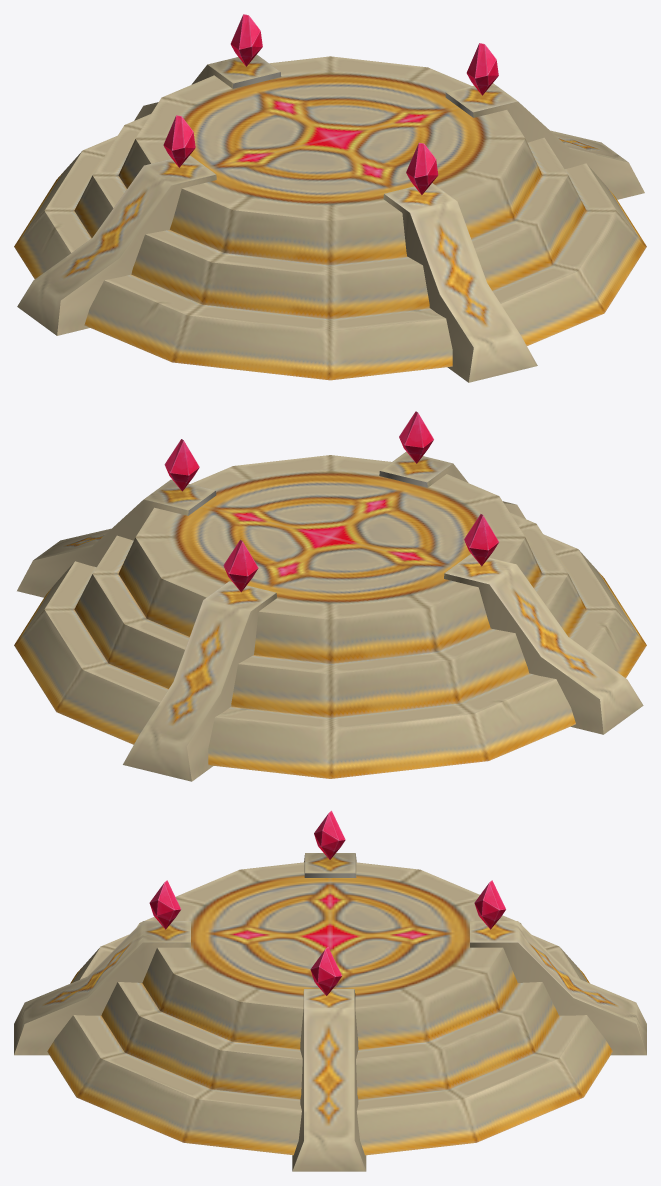
The model's file is ice_prop_11.FBX.
3 renders of one model, top to bottom at view 1: azimuth 30°, elevation 25°; view 2: azimuth 150°, elevation 25°; view 3: azimuth 270°, elevation 25°, orthographic. The views are drawn at different scales.
Parts seen in each view (by area): view 1: Object047; view 2: Object047; view 3: Object047.
Boxes of the visible parts, x1,y1,x2,y2 form: Object047: [14, 14, 646, 382]; Object047: [14, 411, 646, 781]; Object047: [14, 810, 646, 1171].
Bounding box in the file's own units: 299 × 301 × 83.41.
